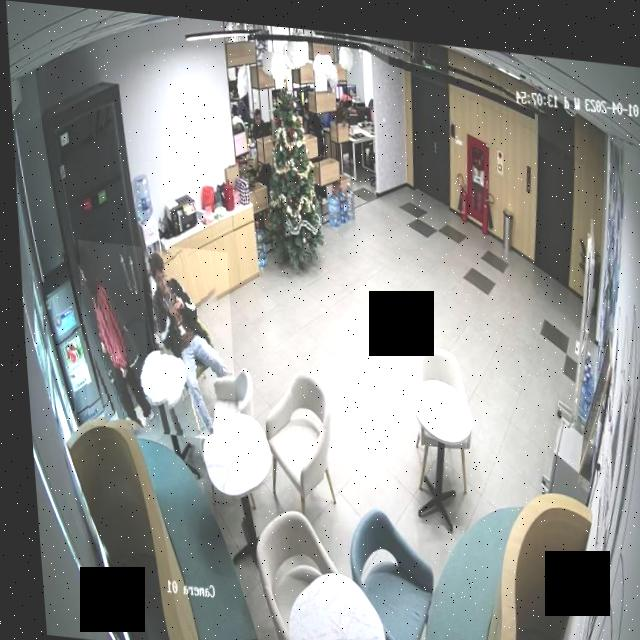person: (142, 241, 234, 438), (71, 238, 148, 429)
